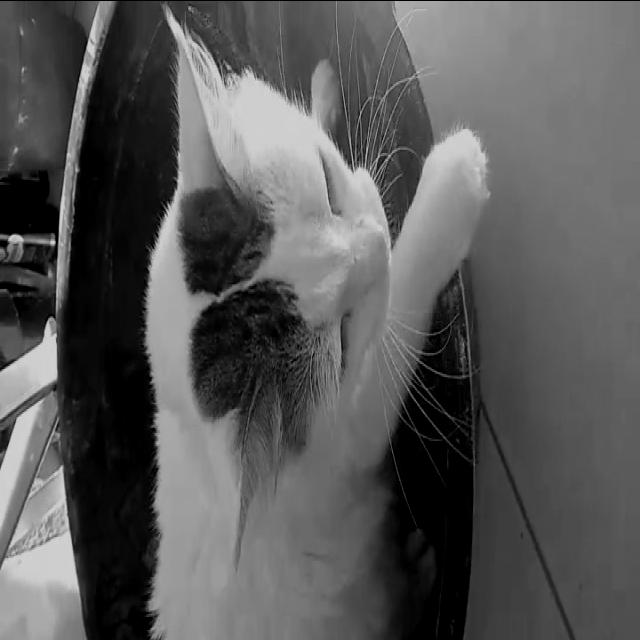Simba: (138, 1, 486, 618)
